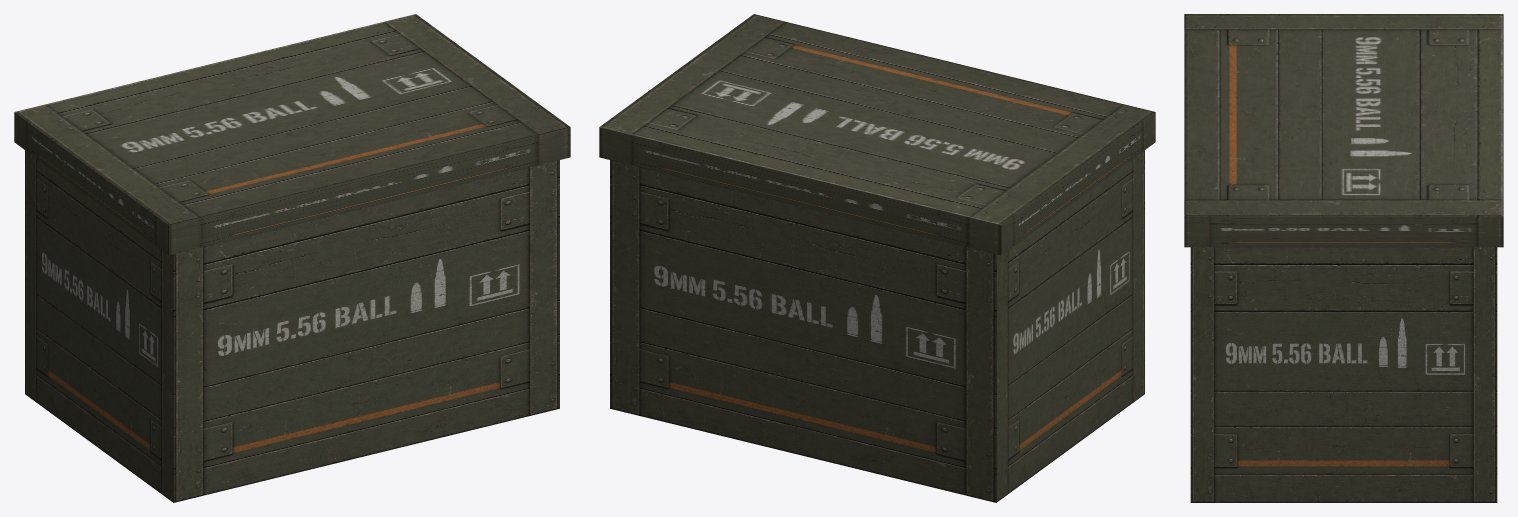
Rendered from ammo-light.glb.
3 renders of one model, left to right at view 1: azimuth 30°, elevation 25°; view 2: azimuth 150°, elevation 25°; view 3: azimuth 270°, elevation 25°, orthographic. The views are drawn at different scales.
Parts seen in each view (by area): view 1: body, lid; view 2: body, lid; view 3: body, lid.
Part boxes in pixels (bbox=[...]): body: bbox=[25, 150, 559, 502]; lid: bbox=[14, 14, 570, 255]; body: bbox=[610, 150, 1144, 502]; lid: bbox=[599, 14, 1155, 255]; body: bbox=[1190, 247, 1497, 502]; lid: bbox=[1184, 14, 1503, 247].
Size of the model in its own units: 0.468 by 0.3136 by 0.312.
Materials: 1 (1 with a texture image).
